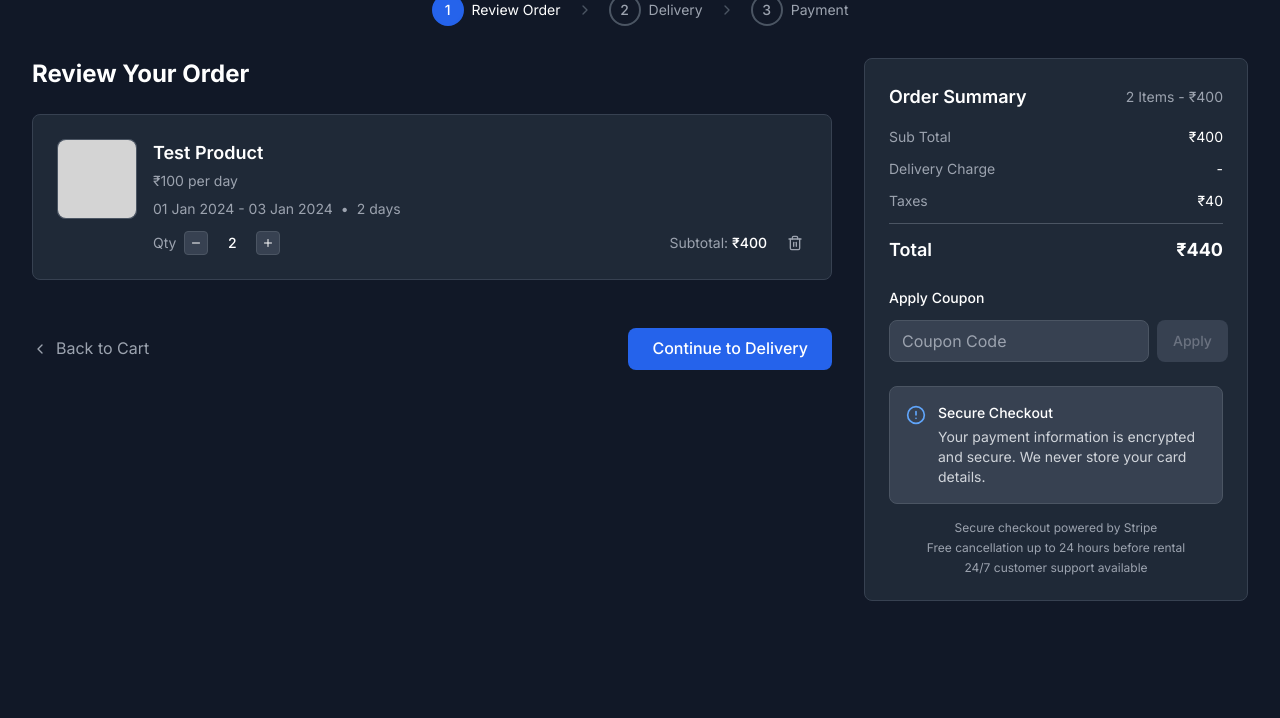
Scenario: CheckoutPage › allows order placement without form validation
# Navigate to payment step
Click the button "Continue to Delivery" at [730, 349], box left=628, top=328, right=832, bottom=370
(page scrolled)
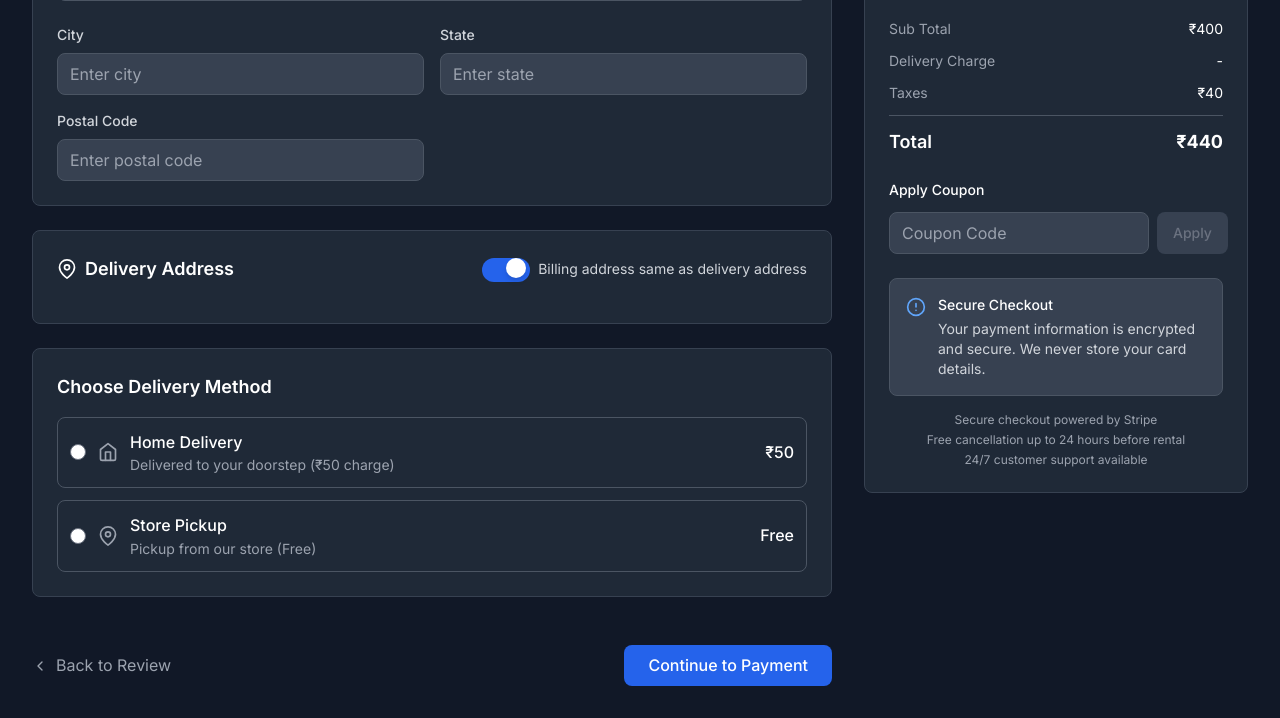
Click the button "Continue to Payment" at [728, 666], box left=624, top=645, right=832, bottom=686
(page scrolled)
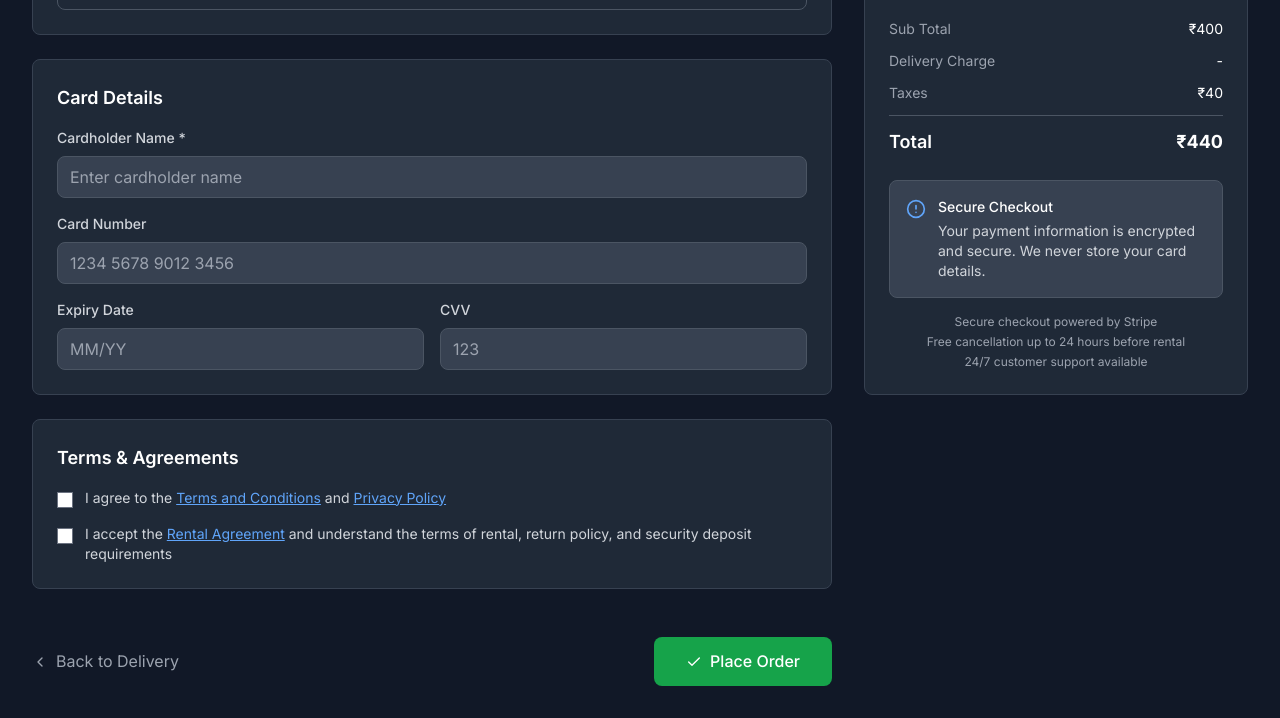
Result: the button "Place Order" is enabled at left=654, top=637, right=832, bottom=686
